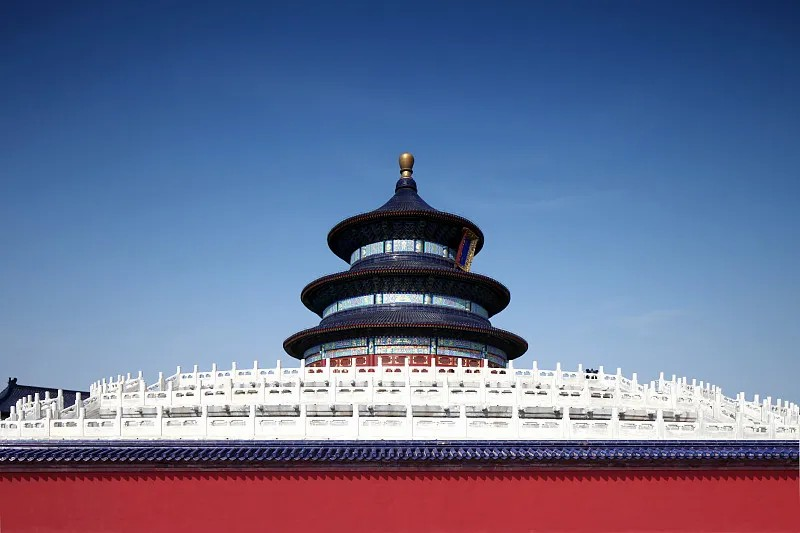Heaven: (283, 152, 529, 369)
